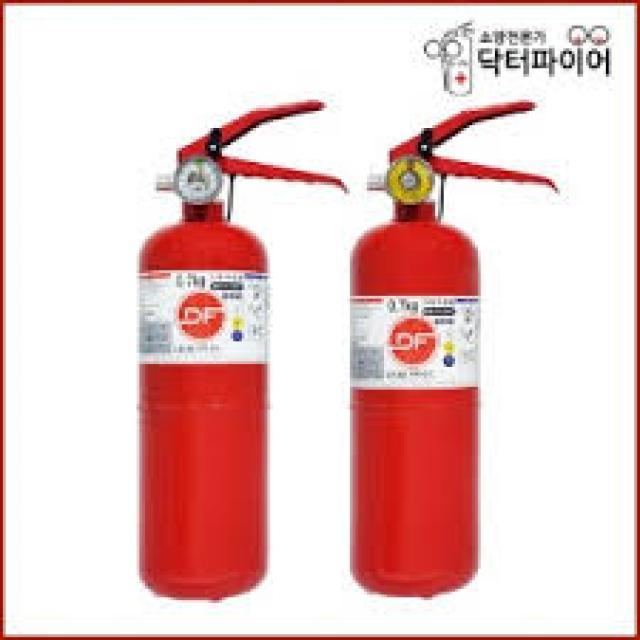pressure gauge: (387, 157, 435, 204), (174, 157, 221, 204)
